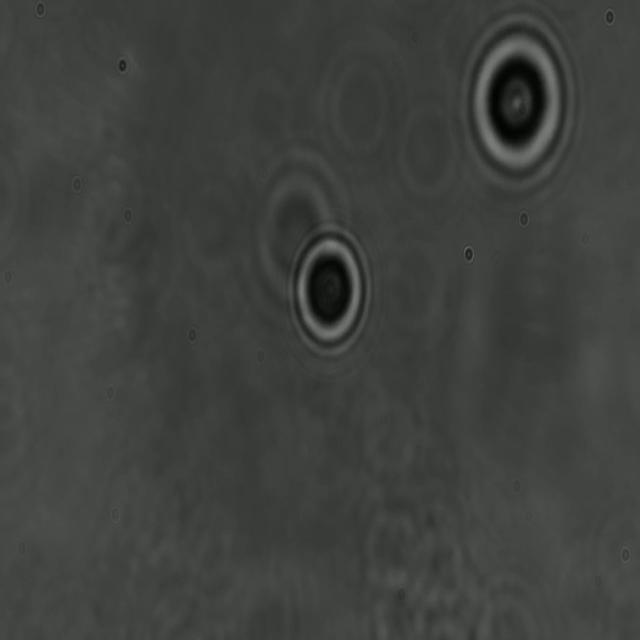DCELL: (282, 214, 378, 366)
LCELL: (452, 8, 584, 196)
